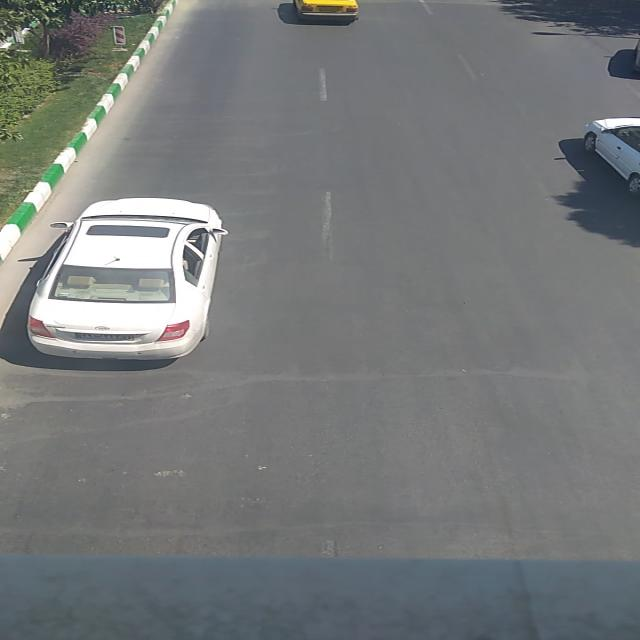car: (24, 198, 228, 360), (580, 118, 640, 196), (293, 0, 362, 22)
